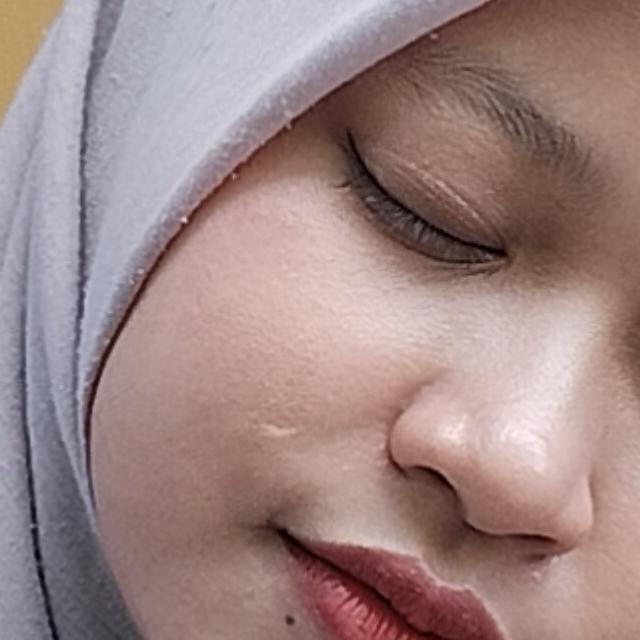tidur: (126, 258, 640, 640)
